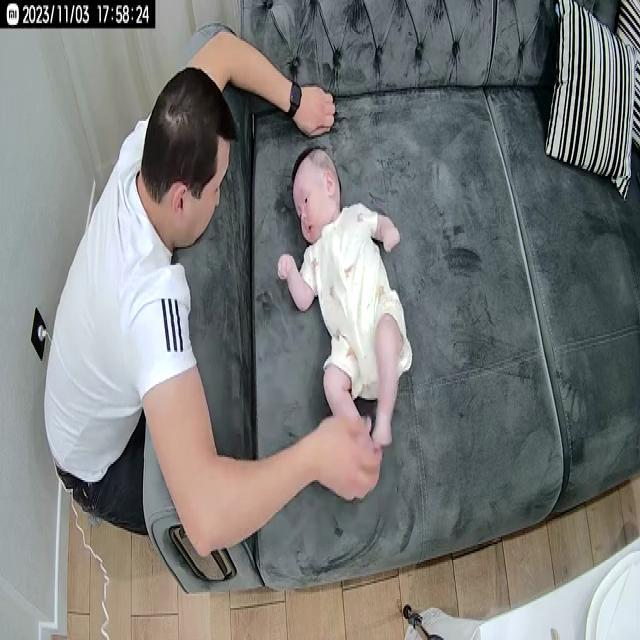baby: (274, 140, 416, 459)
